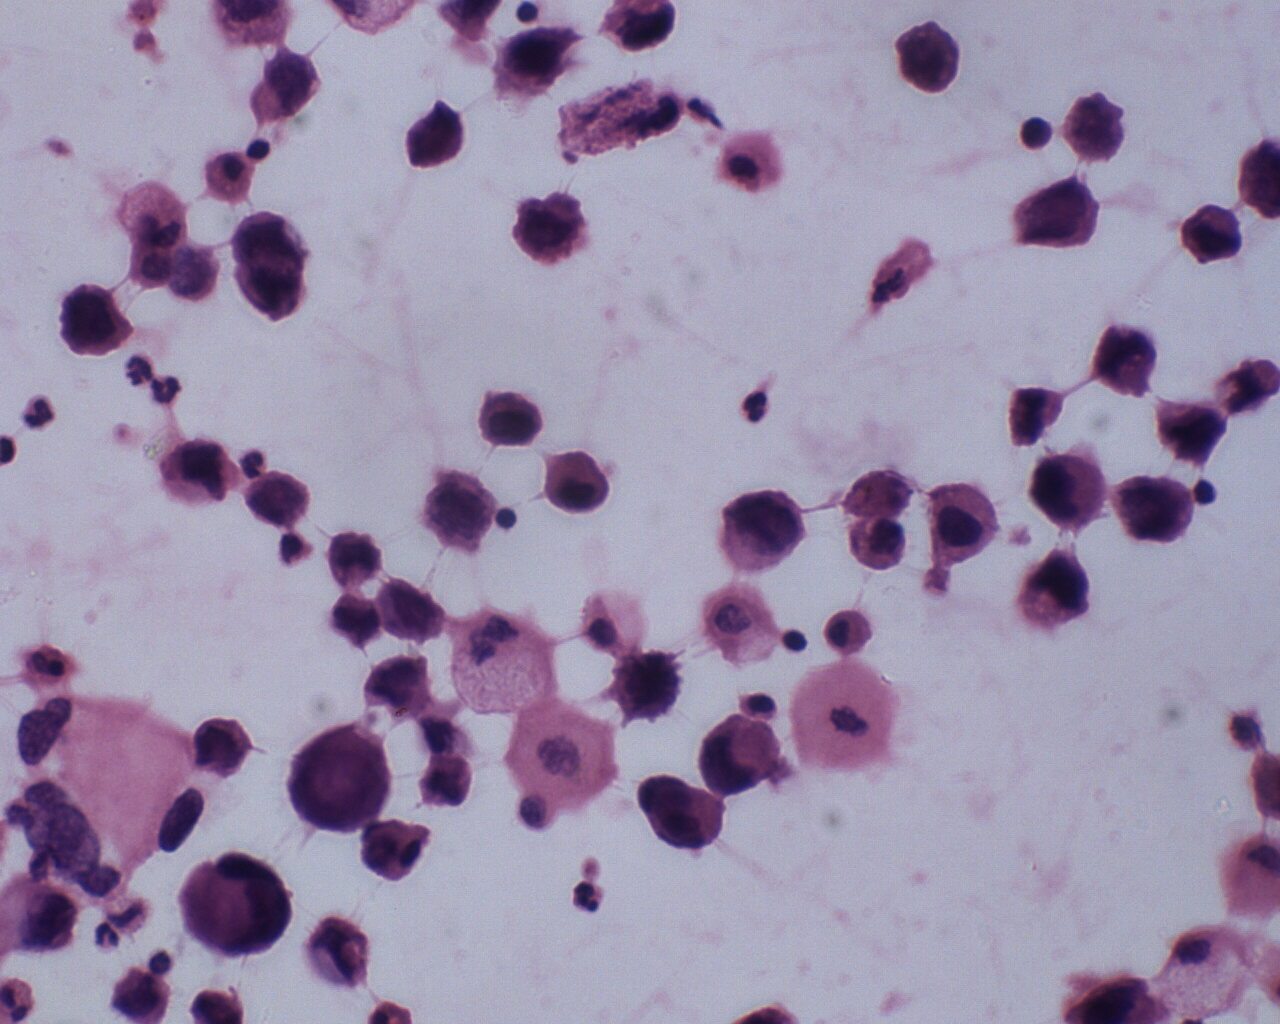ab: (177, 853, 293, 963), (287, 720, 393, 835), (720, 486, 808, 574), (699, 712, 787, 798), (416, 467, 496, 559), (1014, 170, 1101, 254), (1015, 544, 1093, 634), (507, 188, 592, 269), (1029, 446, 1108, 534), (1108, 470, 1193, 546), (891, 18, 973, 96), (609, 647, 686, 728), (57, 282, 135, 360), (1091, 319, 1162, 401), (370, 574, 444, 650), (1182, 201, 1250, 273), (188, 711, 256, 781), (478, 390, 548, 452), (243, 470, 308, 530)
histo: (789, 652, 900, 785), (498, 696, 620, 809), (448, 601, 560, 715)
meso: (850, 515, 913, 577)
neutro: (20, 390, 59, 435), (571, 877, 609, 917), (148, 373, 186, 408), (88, 918, 122, 952)
